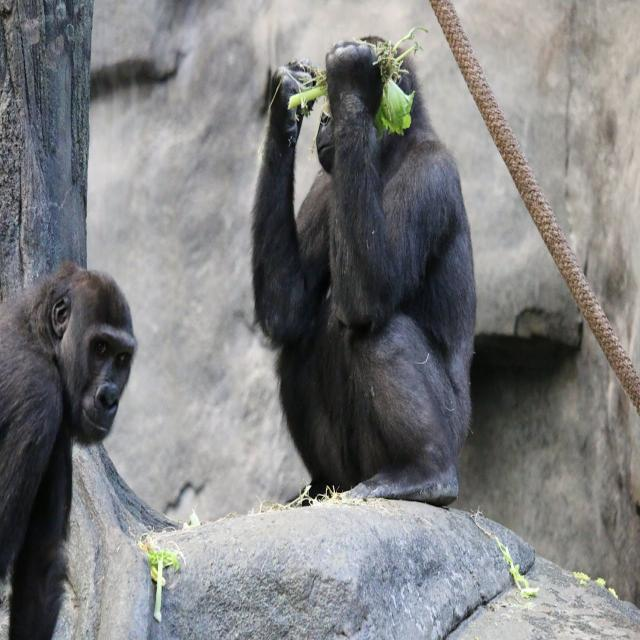Gorilla: (253, 38, 476, 510), (0, 265, 139, 640)
